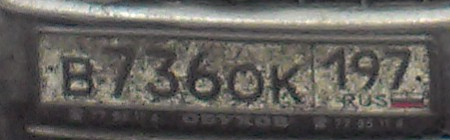character: (100, 41, 138, 100), (186, 47, 224, 105), (145, 44, 182, 102), (226, 61, 266, 109), (59, 53, 97, 100), (269, 63, 305, 109), (351, 44, 380, 97), (381, 46, 414, 91), (323, 44, 351, 93)
